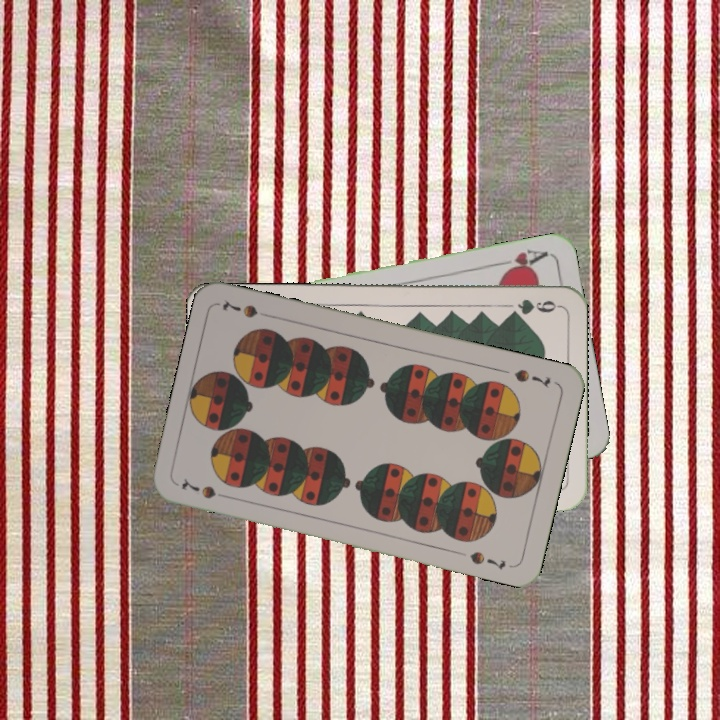G9: (514, 295, 561, 317)
HA: (491, 244, 550, 276)
S7: (177, 474, 233, 502), (510, 365, 554, 390)
